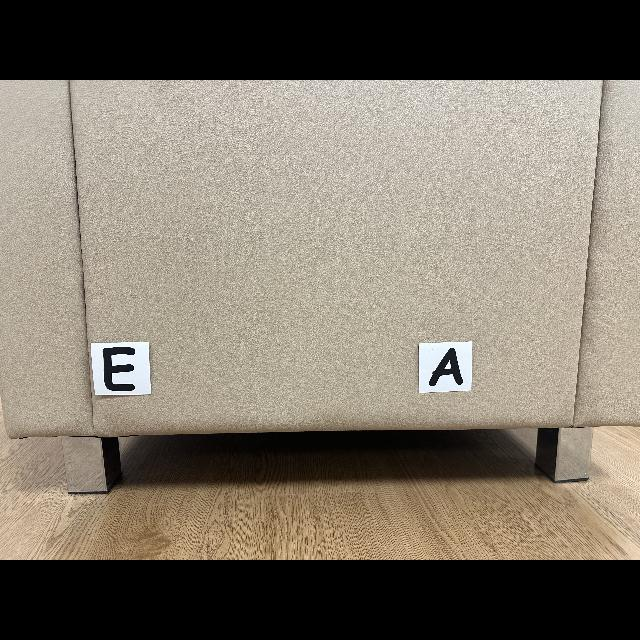A: (429, 348, 462, 386)
E: (102, 346, 135, 391)
